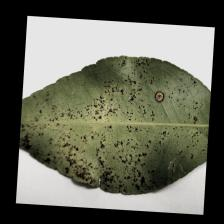canker: (54, 96, 144, 182)
